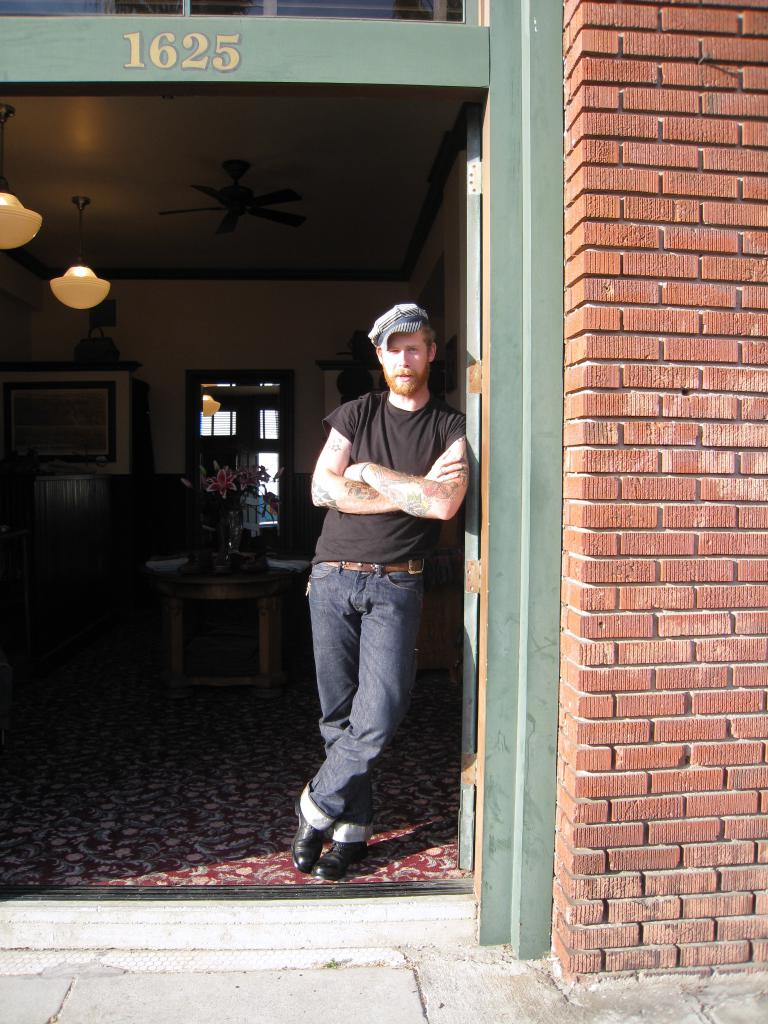door: (453, 164, 481, 846)
